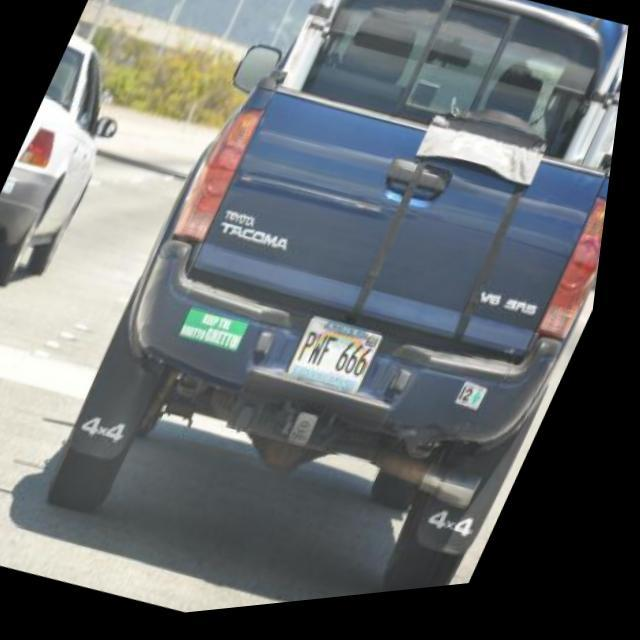license_plate: (293, 317, 396, 410)
